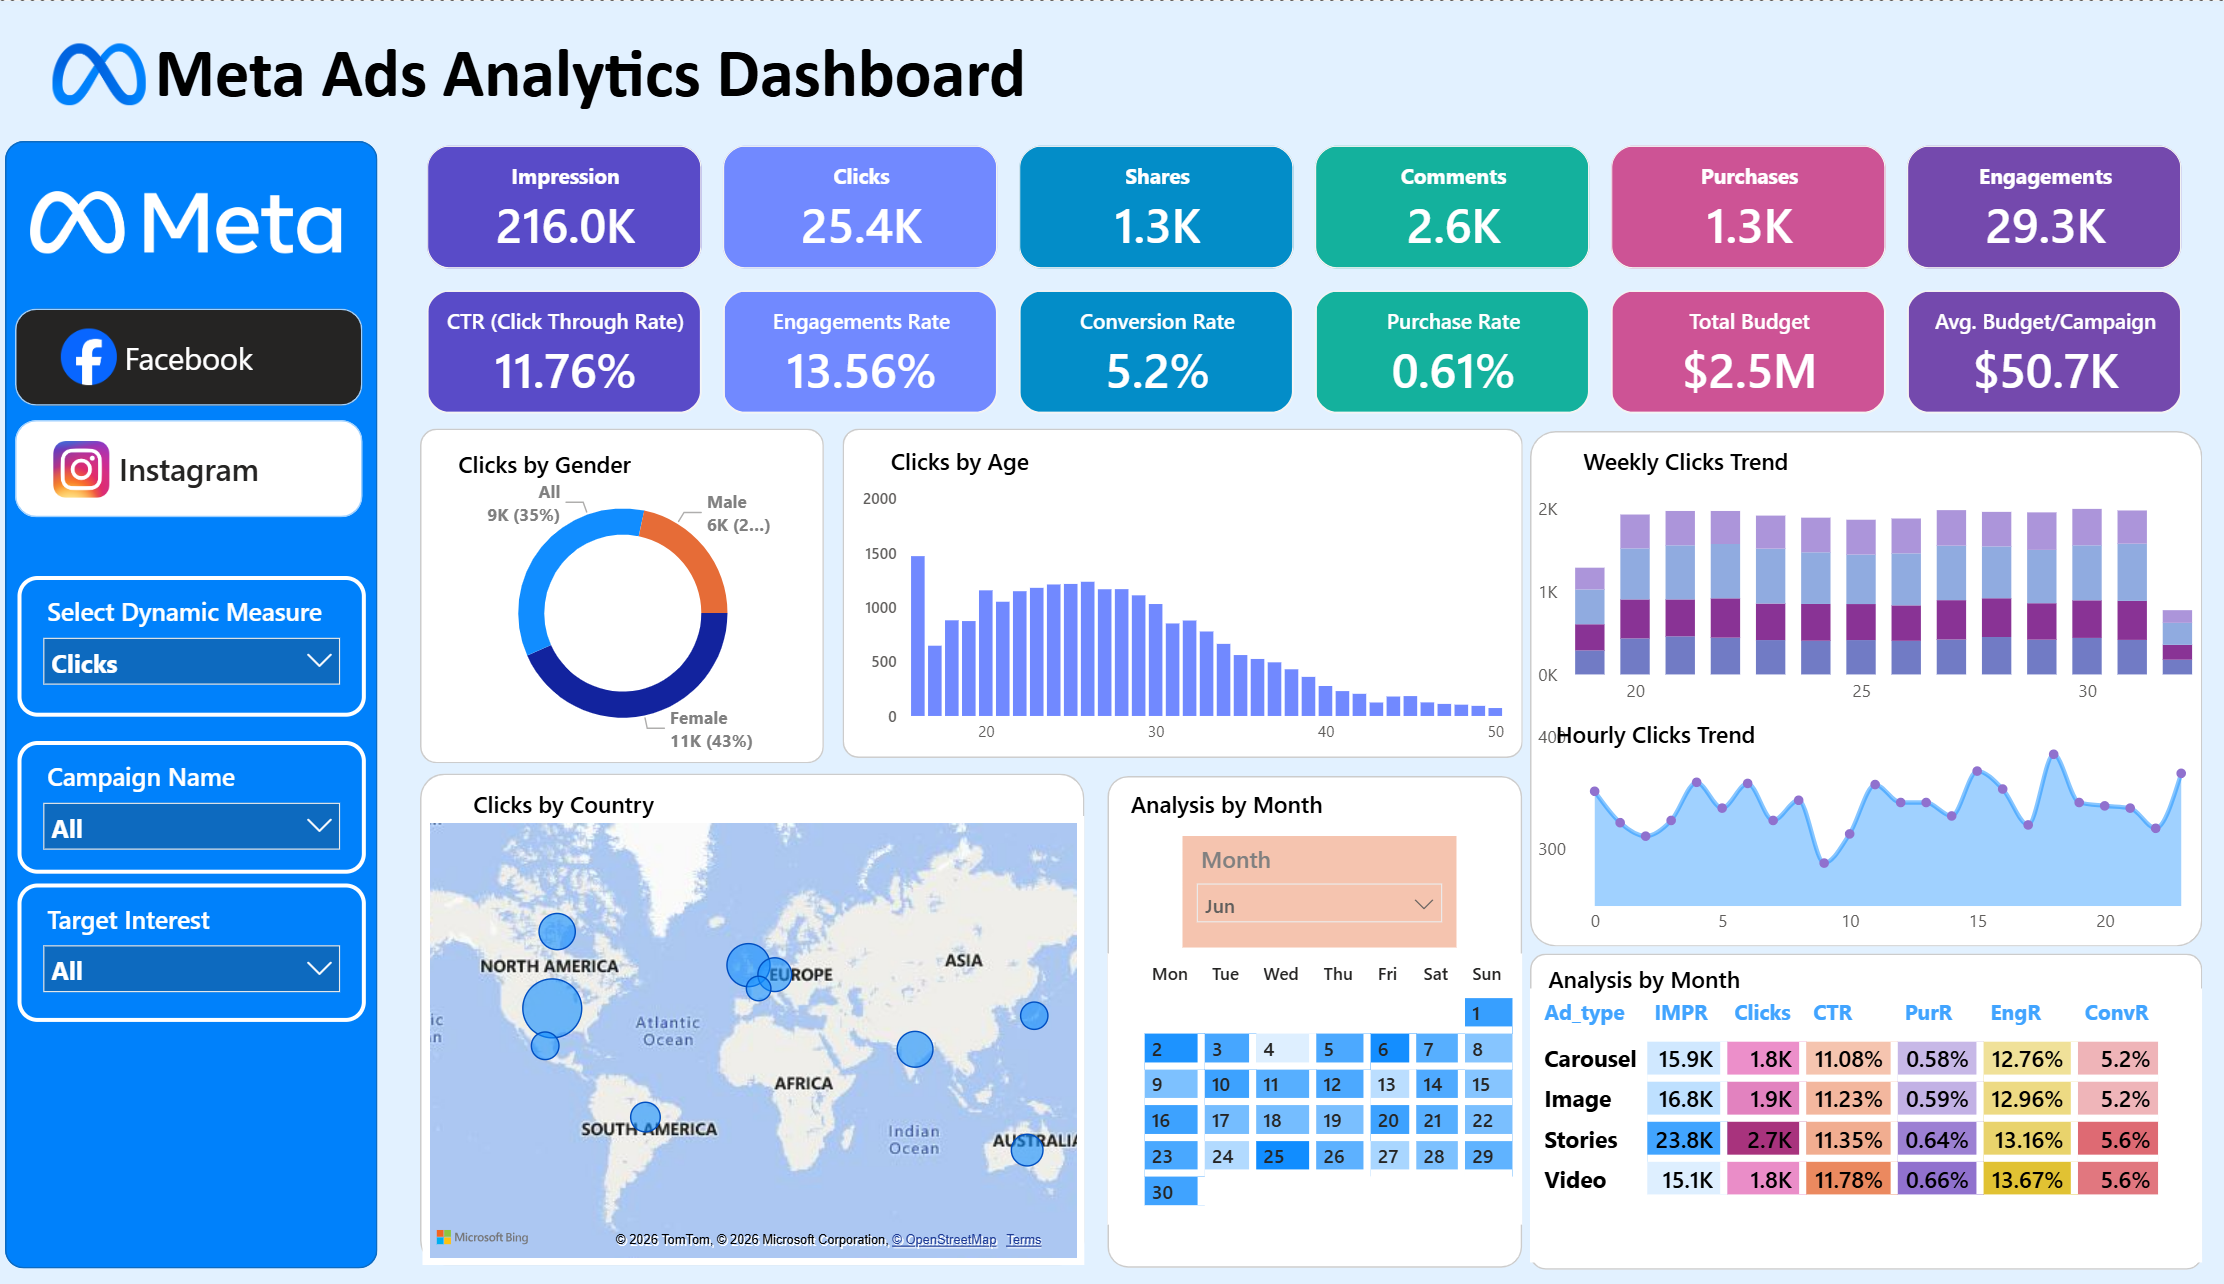

The page's visual inventory and layout, read from the dashboard file:
{"tool":"powerbi","page":{"name":"Facebook","canvas":[1570,900],"ordinal":0},"visuals":[{"type":"textbox","box":[105.9,14.9,641.2,83.6],"z":0},{"type":"image","box":[40.9,24.2,65,53.9],"z":1000},{"type":"shape","box":[7,97.9,260.5,788.5],"z":2000},{"type":"cardVisual","fields":{"Data":["ad_events.Impression","ad_events.Clicks","ad_events.Shares","ad_events.Comments","ad_events.Purchases","ad_events.Engagements"]},"box":[284.3,83.6,1265.6,120.8],"z":3000},{"type":"cardVisual","fields":{"Data":["ad_events.CTR (Click Through Rate)","ad_events.Engagements Rate","ad_events.Conversion Rate","ad_events.Purchase Rate","ad_events.Total Budget","ad_events.Avg. Budget Per Campaign"]},"box":[284.3,185.8,1265.6,120.8],"z":4000},{"type":"shape","box":[297.3,299.2,282.5,234.2],"z":5000},{"type":"donutChart","fields":{"Y":["ad_events.Clicks"],"Category":["ads.target_gender"]},"box":[306.6,317.8,265.8,219.3],"z":6000},{"type":"slicer","fields":{"Values":["Select Dynamic Measure.Select Dynamic Measure"]},"box":[14.9,401.4,243.5,98.5],"z":7000},{"type":"cardVisual","fields":{"Data":["Select Dynamic Measure.Gender Title"]},"box":[306.6,291.8,245.3,61.3],"z":8000},{"type":"shape","box":[592.8,299.2,475.8,230.4],"z":9000},{"type":"columnChart","fields":{"Y":["ad_events.Clicks"],"Category":["users.user_age"]},"box":[600.8,334,459.3,194.9],"z":10000},{"type":"cardVisual","fields":{"Data":["Select Dynamic Measure.Age Title"]},"box":[607.7,289.9,245.3,61.3],"z":11000},{"type":"shape","box":[297.3,540.8,464.6,343.8],"z":12000},{"type":"map","fields":{"Size":["ad_events.Clicks"],"Category":["users.country"]},"box":[299.2,570.5,462.8,314.1],"z":13000},{"type":"cardVisual","fields":{"Data":["Select Dynamic Measure.Map Title"]},"box":[315.9,529.7,245.3,61.3],"z":14000},{"type":"shape","box":[778.7,542.7,289.9,343.8],"z":15000},{"type":"pivotTable","fields":{"Rows":["Calender Table.week Number"],"Columns":["Calender Table.Day Name"],"Values":["Min(Calender Table.Day Number)"]},"box":[778.7,665.3,289.9,189.6],"z":16000},{"type":"slicer","fields":{"Values":["Calender Table.Month"]},"box":[830.7,583.5,191.4,78.1],"z":17000},{"type":"cardVisual","fields":{"Data":["Select Dynamic Measure.Calender Title"]},"box":[776.8,529.7,245.3,61.3],"z":18000},{"type":"shape","box":[1074.2,301.1,470.2,360.5],"z":19000},{"type":"shape","box":[1074.2,665.3,470.2,221.2],"z":20000},{"type":"columnChart","fields":{"Y":["ad_events.Clicks"],"Category":["Calender Table.week Number"],"Series":["ads.ad_type"]},"box":[1074.2,340.1,470.2,159.8],"z":21000},{"type":"cardVisual","fields":{"Data":["Select Dynamic Measure.Weekly Title"]},"box":[1092.8,289.9,245.3,61.3],"z":22000},{"type":"areaChart","fields":{"Y":["ad_events.Clicks"],"Category":["ad_events.Event Hour"]},"box":[1074.2,499.9,470.2,161.7],"z":23000},{"type":"cardVisual","fields":{"Data":["campaigns.Hourly Title"]},"box":[1074.2,481.3,245.3,61.3],"z":24000},{"type":"pivotTable","fields":{"Rows":["ads.ad_type"],"Values":["ad_events.Impression","ad_events.Clicks","ad_events.CTR (Click Through Rate)","ad_events.Purchase Rate","ad_events.Engagements Rate","ad_events.Conversion Rate"]},"box":[1074.2,691.3,470.2,191.4],"z":25000},{"type":"cardVisual","fields":{"Data":["Select Dynamic Measure.Calender Title"]},"box":[1068.6,652.3,245.3,61.3],"z":26000},{"type":"image","box":[24.2,35.3,217.4,239.7],"z":27000},{"type":"slicer","fields":{"Values":["campaigns.name"]},"box":[14.9,516.6,243.5,92.9],"z":28000},{"type":"slicer","fields":{"Values":["ads.target_interests"]},"box":[14.9,617,243.5,96.6],"z":29000},{"type":"pageNavigator","box":[13.9,215.7,243.6,146.1],"z":29001},{"type":"image","box":[27.8,308.5,65,39.4],"z":29002},{"type":"image","box":[32.5,229.7,65,39.4],"z":29003}]}

Visuals, with their boxes in screenshot pixels (x1, y1, x2, y2), scaled from the page's 1570x900 canvas onto the 2224x1284 screenshot:
textbox: left=150, top=21, right=1058, bottom=141
image: left=58, top=35, right=150, bottom=111
shape: left=10, top=140, right=379, bottom=1265
cardVisual - ad_events.Impression x ad_events.Clicks: left=403, top=119, right=2196, bottom=292
cardVisual - ad_events.CTR (Click Through Rate) x ad_events.Engagements Rate: left=403, top=265, right=2196, bottom=437
shape: left=421, top=427, right=821, bottom=761
donutChart - ad_events.Clicks x ads.target_gender: left=434, top=453, right=811, bottom=766
slicer - Select Dynamic Measure.Select Dynamic Measure: left=21, top=573, right=366, bottom=713
cardVisual - Select Dynamic Measure.Gender Title: left=434, top=416, right=782, bottom=504
shape: left=840, top=427, right=1514, bottom=756
columnChart - ad_events.Clicks x users.user_age: left=851, top=477, right=1502, bottom=755
cardVisual - Select Dynamic Measure.Age Title: left=861, top=414, right=1208, bottom=501
shape: left=421, top=772, right=1079, bottom=1262
map - ad_events.Clicks x users.country: left=424, top=814, right=1079, bottom=1262
cardVisual - Select Dynamic Measure.Map Title: left=447, top=756, right=795, bottom=843
shape: left=1103, top=774, right=1514, bottom=1265
pivotTable - Calender Table.week Number x Calender Table.Day Name: left=1103, top=949, right=1514, bottom=1220
slicer - Calender Table.Month: left=1177, top=832, right=1448, bottom=944
cardVisual - Select Dynamic Measure.Calender Title: left=1100, top=756, right=1448, bottom=843
shape: left=1522, top=430, right=2188, bottom=944
shape: left=1522, top=949, right=2188, bottom=1265
columnChart - ad_events.Clicks x Calender Table.week Number: left=1522, top=485, right=2188, bottom=713
cardVisual - Select Dynamic Measure.Weekly Title: left=1548, top=414, right=1895, bottom=501
areaChart - ad_events.Clicks x ad_events.Event Hour: left=1522, top=713, right=2188, bottom=944
cardVisual - campaigns.Hourly Title: left=1522, top=687, right=1869, bottom=774
pivotTable - ads.ad_type x ad_events.Impression: left=1522, top=986, right=2188, bottom=1259
cardVisual - Select Dynamic Measure.Calender Title: left=1514, top=931, right=1861, bottom=1018
image: left=34, top=50, right=342, bottom=392
slicer - campaigns.name: left=21, top=737, right=366, bottom=870
slicer - ads.target_interests: left=21, top=880, right=366, bottom=1018
pageNavigator: left=20, top=308, right=365, bottom=516
image: left=39, top=440, right=131, bottom=496
image: left=46, top=328, right=138, bottom=384
